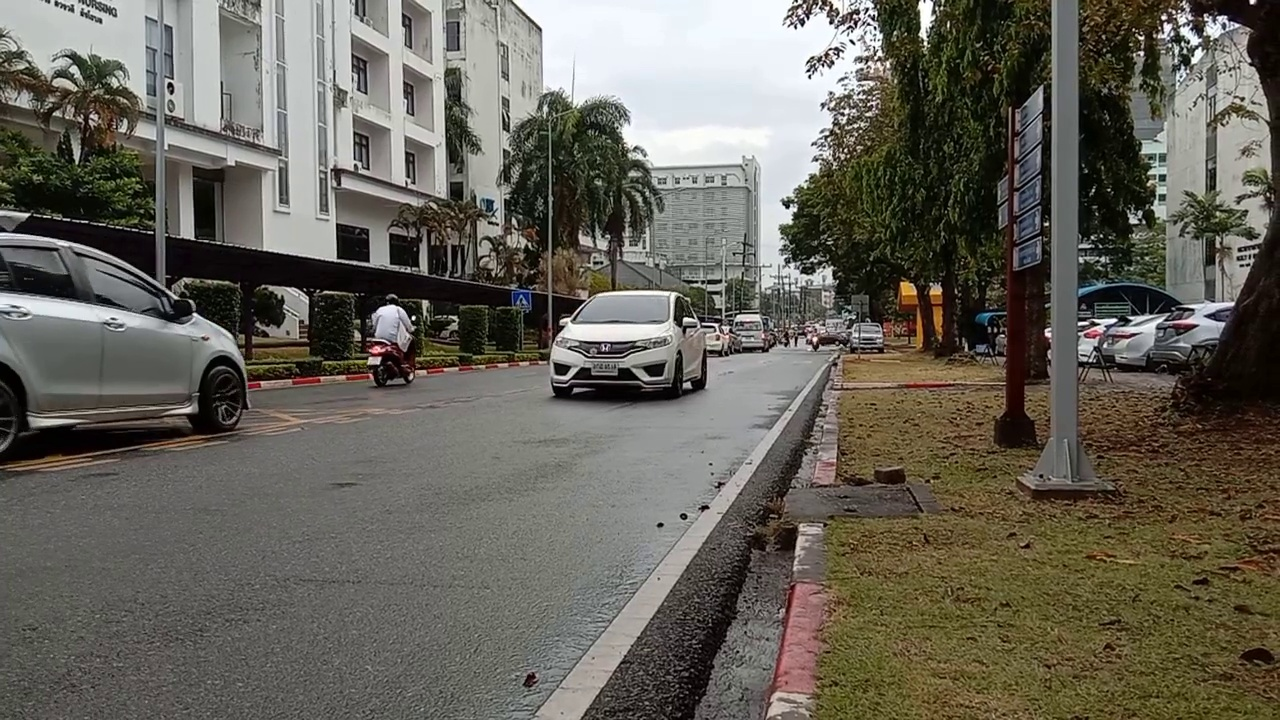License Plate: (589, 358, 618, 376)
